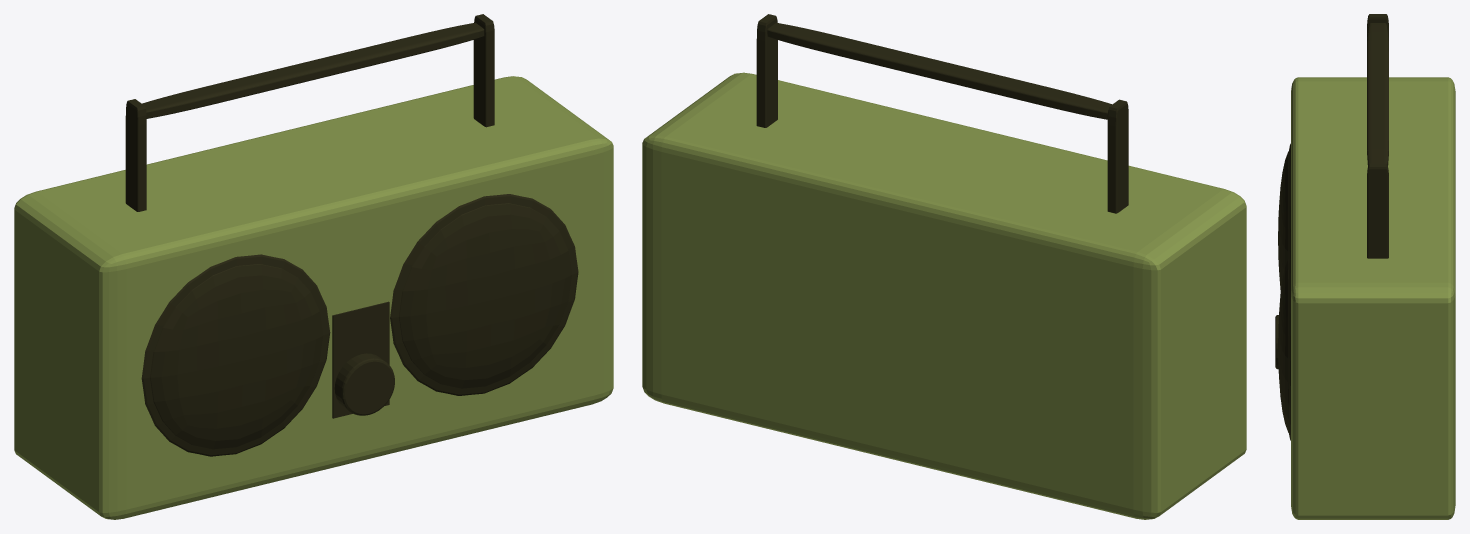
Rendered from Low_Poly_Retro_Boombox_Free_Game-Ready_Asset.glb.
3 renders of one model, left to right at view 1: azimuth 30°, elevation 25°; view 2: azimuth 150°, elevation 25°; view 3: azimuth 270°, elevation 25°, orthographic. The views are drawn at different scales.
Visible parts, largest first — view 1: unnamed (×10); view 2: unnamed (×4); view 3: unnamed (×8).
Part boxes in pixels (x1=…): unnamed (×10): x1=14, y1=14, x2=613, y2=519; unnamed (×4): x1=642, y1=14, x2=1246, y2=519; unnamed (×8): x1=1278, y1=14, x2=1455, y2=519.
Bounding box in the file's own units: 1.55 × 1.06 × 0.5341.
